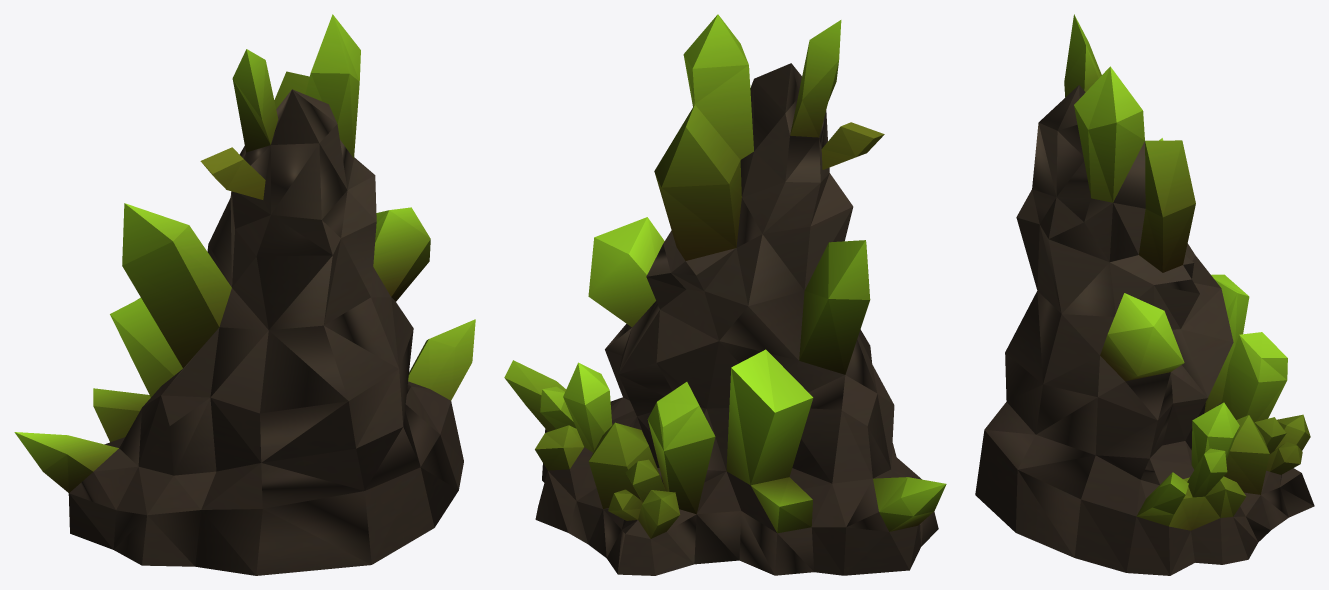
The model's file is ZLP_Crystalk_C_7.FBX.
The picture shows the model from 3 angles, left to right: view 1: azimuth 30°, elevation 25°; view 2: azimuth 150°, elevation 25°; view 3: azimuth 270°, elevation 25°; orthographic projection. The views are drawn at different scales.
Visible parts, largest first — view 1: ZLP_Crystalk_C_7; view 2: ZLP_Crystalk_C_7; view 3: ZLP_Crystalk_C_7.
Boxes of the visible parts, x1,y1,x2,y2 form: ZLP_Crystalk_C_7: [14, 14, 475, 575]; ZLP_Crystalk_C_7: [504, 14, 946, 575]; ZLP_Crystalk_C_7: [975, 14, 1314, 575].
Bounding box in the file's own units: 192 × 200 × 137.
